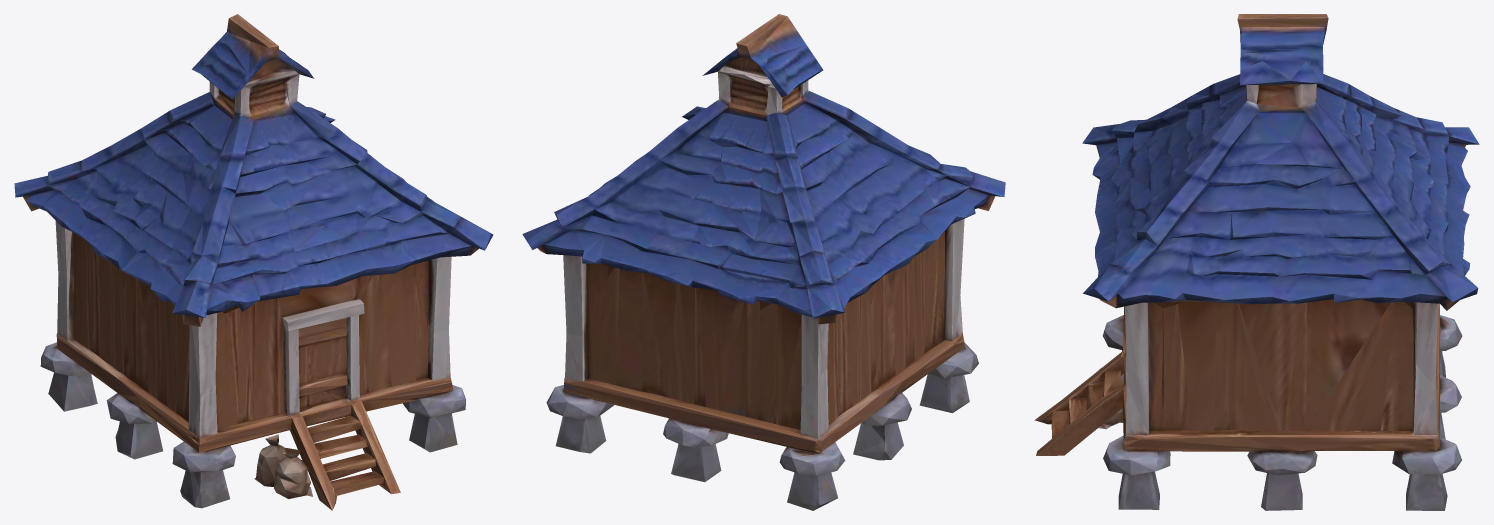
The model's file is oc_granary.glb.
The picture shows the model from 3 angles, left to right: view 1: azimuth 30°, elevation 25°; view 2: azimuth 150°, elevation 25°; view 3: azimuth 270°, elevation 25°; orthographic projection. The views are drawn at different scales.
Parts seen in each view (by area): view 1: W_granary_staddle; view 2: W_granary_staddle; view 3: W_granary_staddle.
Part boxes in pixels (<box>): W_granary_staddle: <box>14,14,493,510</box>; W_granary_staddle: <box>522,14,1005,510</box>; W_granary_staddle: <box>1034,14,1479,510</box>.
Size of the model in its own units: 5.13 by 6 by 5.66.
Materials: 1 (1 with a texture image).
